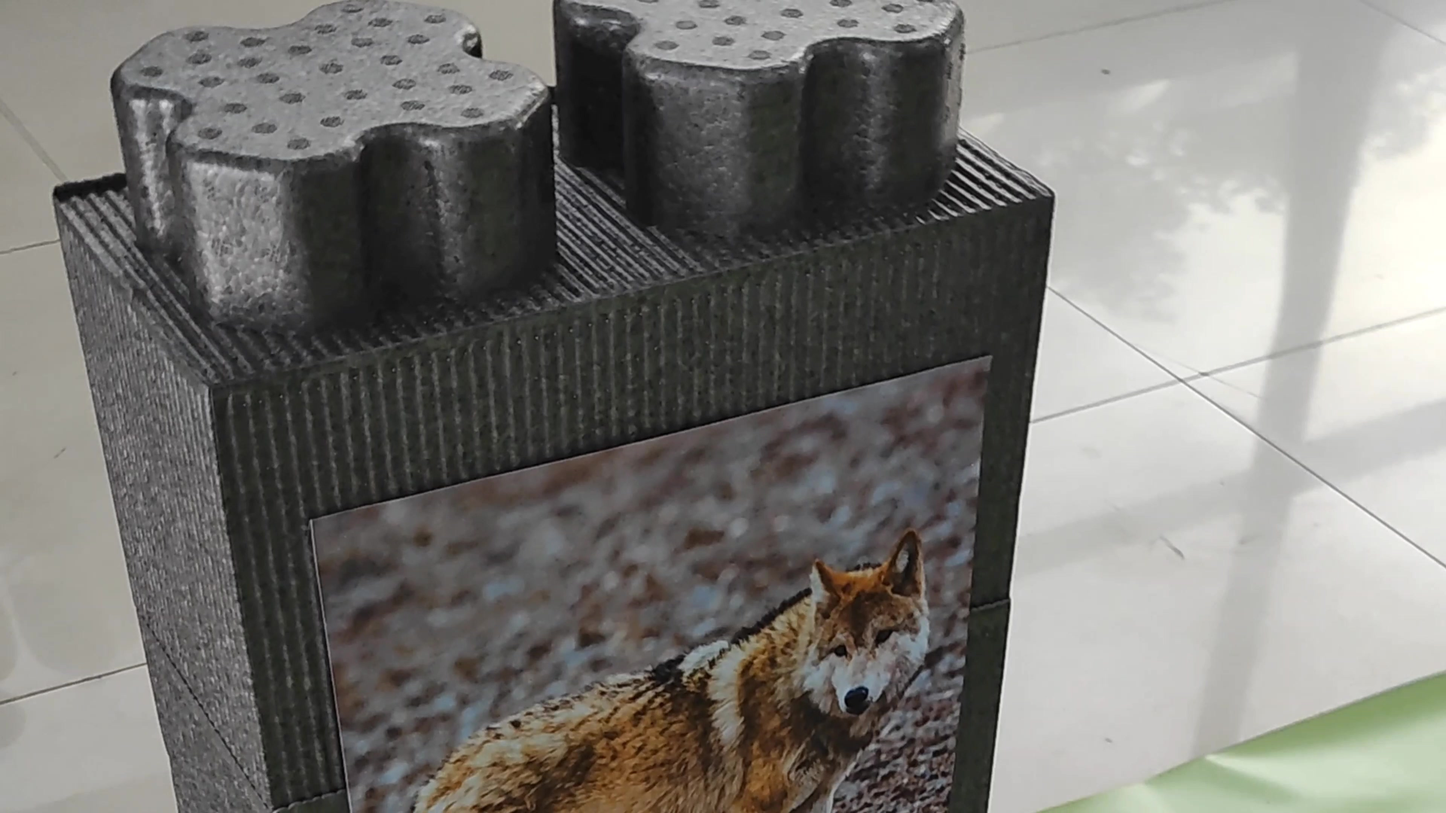wolf: (352, 491, 956, 813)
